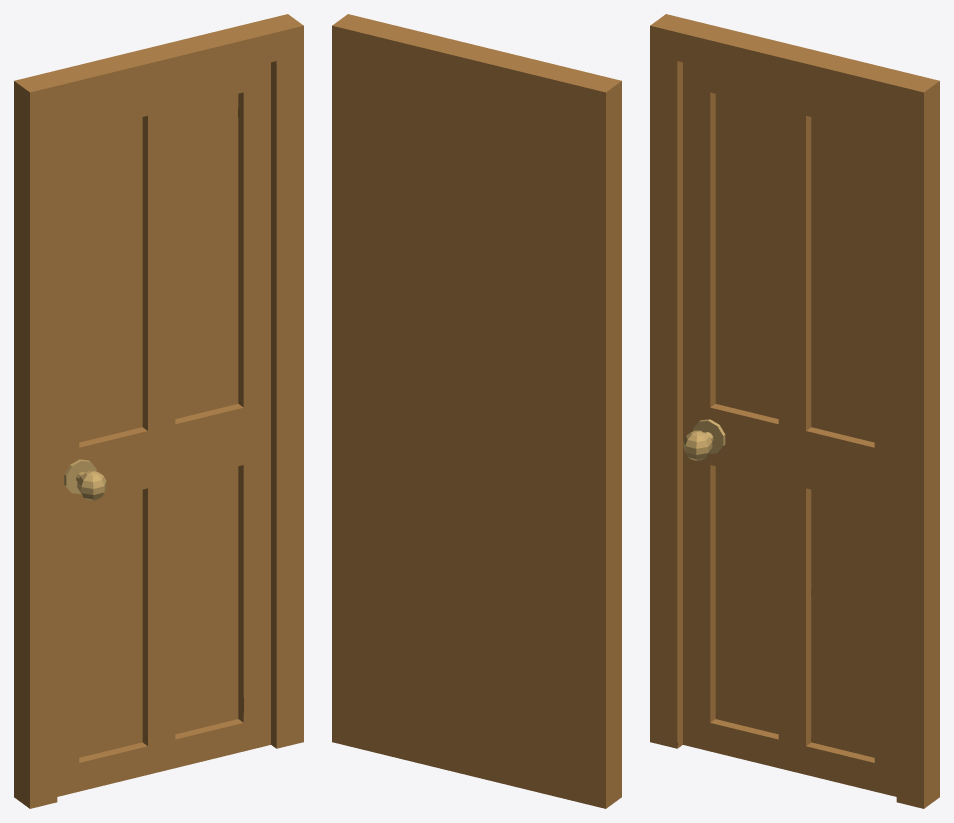
File: door.fbx
The picture shows the model from 3 angles, left to right: view 1: azimuth 30°, elevation 25°; view 2: azimuth 150°, elevation 25°; view 3: azimuth 330°, elevation 25°; orthographic projection.
Visible parts, largest first — view 1: Door; view 2: Door; view 3: Door.
Part boxes in pixels (x1,y1,x2,y2): Door: (14, 14, 303, 808); Door: (332, 14, 621, 808); Door: (650, 14, 939, 808).
Size of the model in its own units: 100 by 250 by 19.
